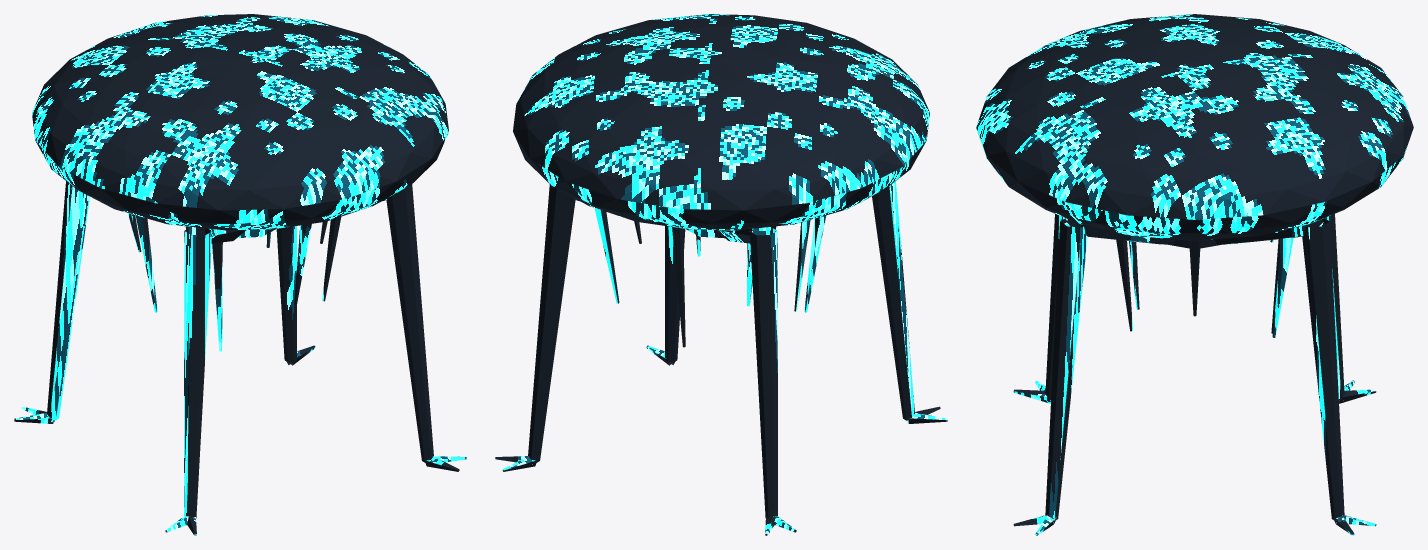
File: fungal_strider.glb
3 renders of one model, left to right at view 1: azimuth 30°, elevation 25°; view 2: azimuth 150°, elevation 25°; view 3: azimuth 270°, elevation 25°, orthographic. The views are drawn at different scales.
Visible parts, largest first — view 1: FungalStrider; view 2: FungalStrider; view 3: FungalStrider.
Part boxes in pixels (bbox=[...]): FungalStrider: bbox=[14, 14, 466, 535]; FungalStrider: bbox=[495, 14, 947, 535]; FungalStrider: bbox=[976, 14, 1413, 535].
Bounding box in the file's own units: 2.7 × 2.74 × 2.7.
1 material, 1 textured.
